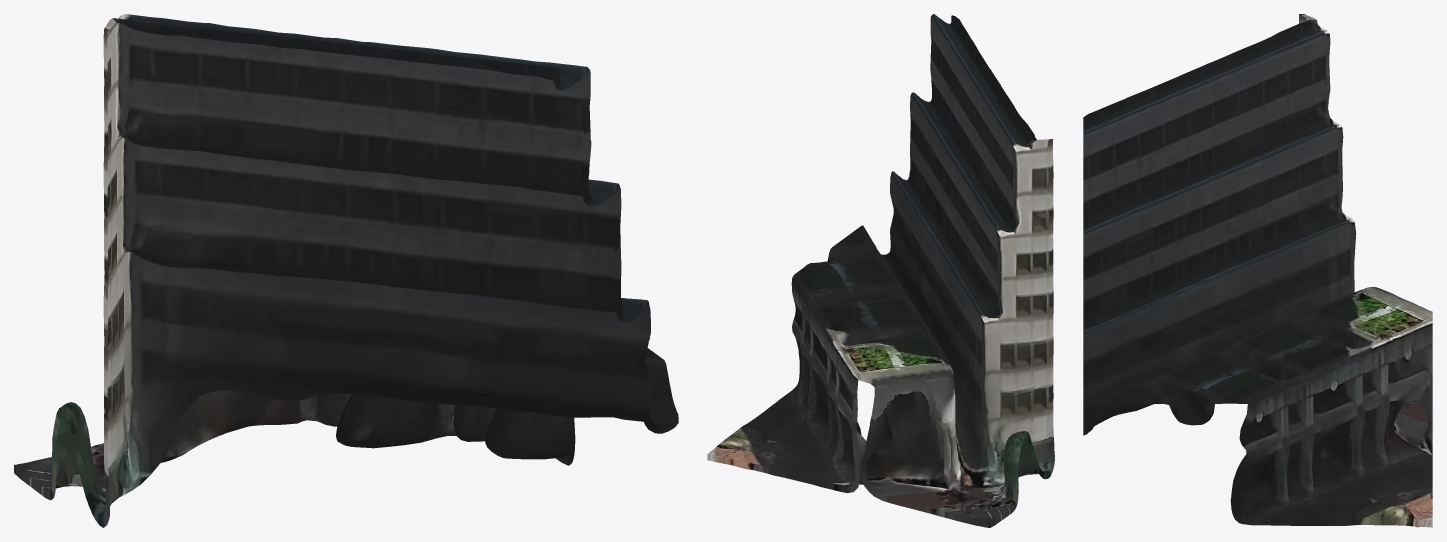
Rendered from z20-167783-405229-h0-yup-uvflip-v3-world.glb.
3 views of the same model, side by side, from view 1: azimuth 30°, elevation 25°; view 2: azimuth 150°, elevation 25°; view 3: azimuth 270°, elevation 25° (orthographic). The views are drawn at different scales.
Bounding box in the file's own units: 30.2 × 35.12 × 30.32.
Materials: 1 (1 with a texture image).
